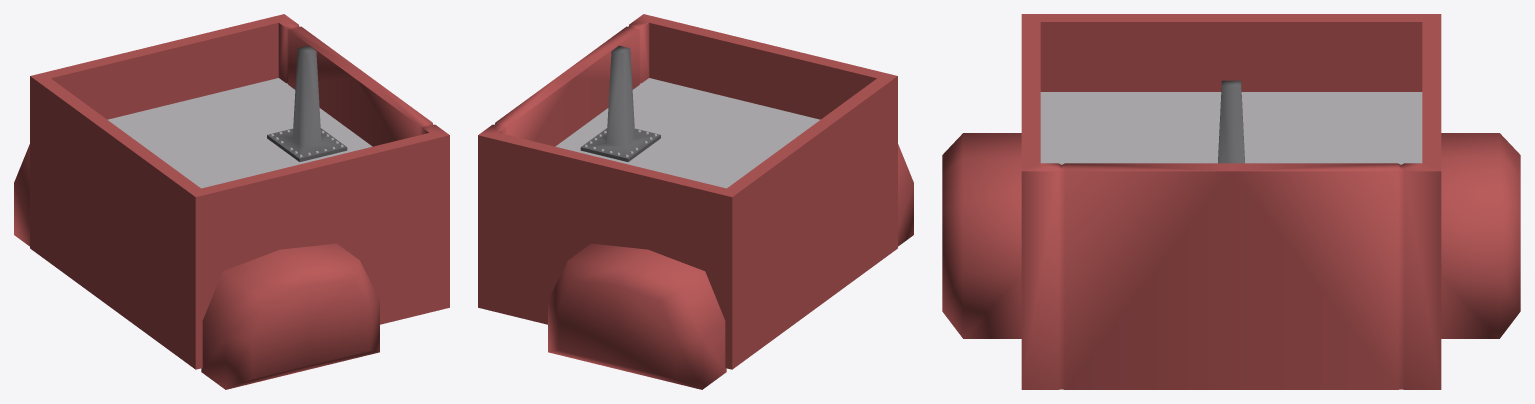
The model's file is truck.glb.
3 renders of one model, left to right at view 1: azimuth 30°, elevation 25°; view 2: azimuth 150°, elevation 25°; view 3: azimuth 270°, elevation 25°, orthographic. The views are drawn at different scales.
Visible parts, largest first — view 1: Truck; view 2: Truck; view 3: Truck.
Boxes of the visible parts, x1=… form: Truck: x1=14, y1=14, x2=449, y2=389; Truck: x1=478, y1=14, x2=913, y2=389; Truck: x1=942, y1=14, x2=1520, y2=389.
Bounding box in the file's own units: 3.08 × 2.52 × 4.79.
Materials: 1 (1 with a texture image).
